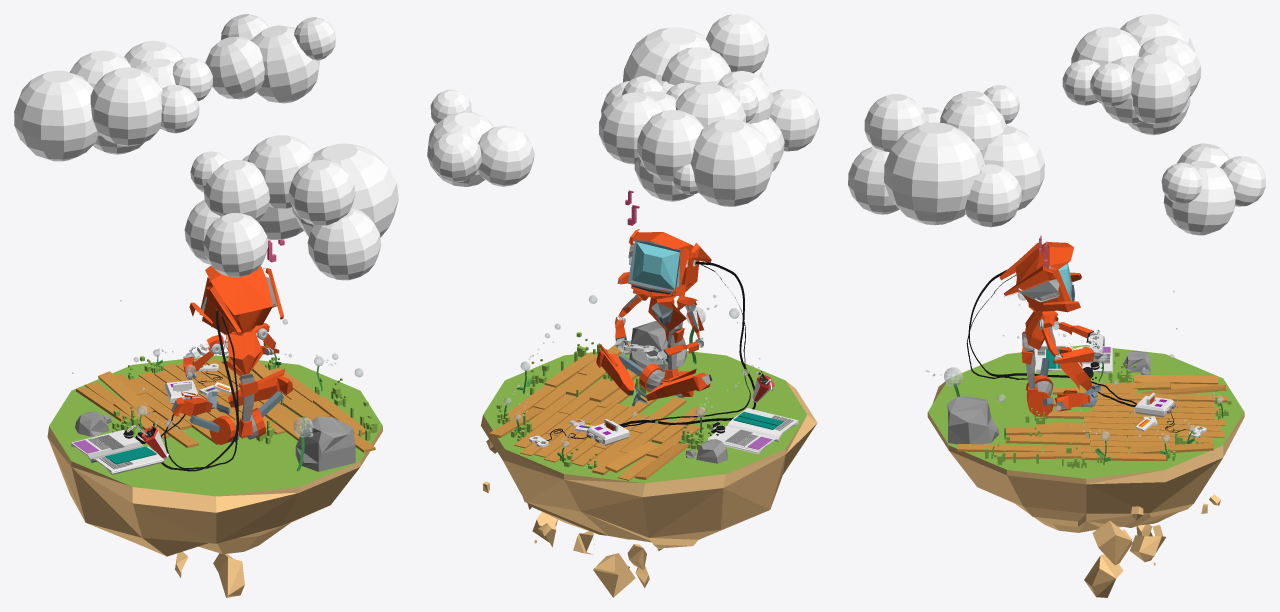
The model's file is Robo Fun Time - Livestream.glb.
The picture shows the model from 3 angles, left to right: view 1: azimuth 30°, elevation 25°; view 2: azimuth 150°, elevation 25°; view 3: azimuth 270°, elevation 25°; orthographic projection. The views are drawn at different scales.
Parts seen in each view (by area): view 1: Node; view 2: Node; view 3: Node.
Boxes of the visible parts, x1,y1,x2,y2 form: Node: (14, 14, 398, 597); Node: (427, 14, 819, 597); Node: (848, 14, 1265, 597).
Bounding box in the file's own units: 4.08 × 6.53 × 4.74.
